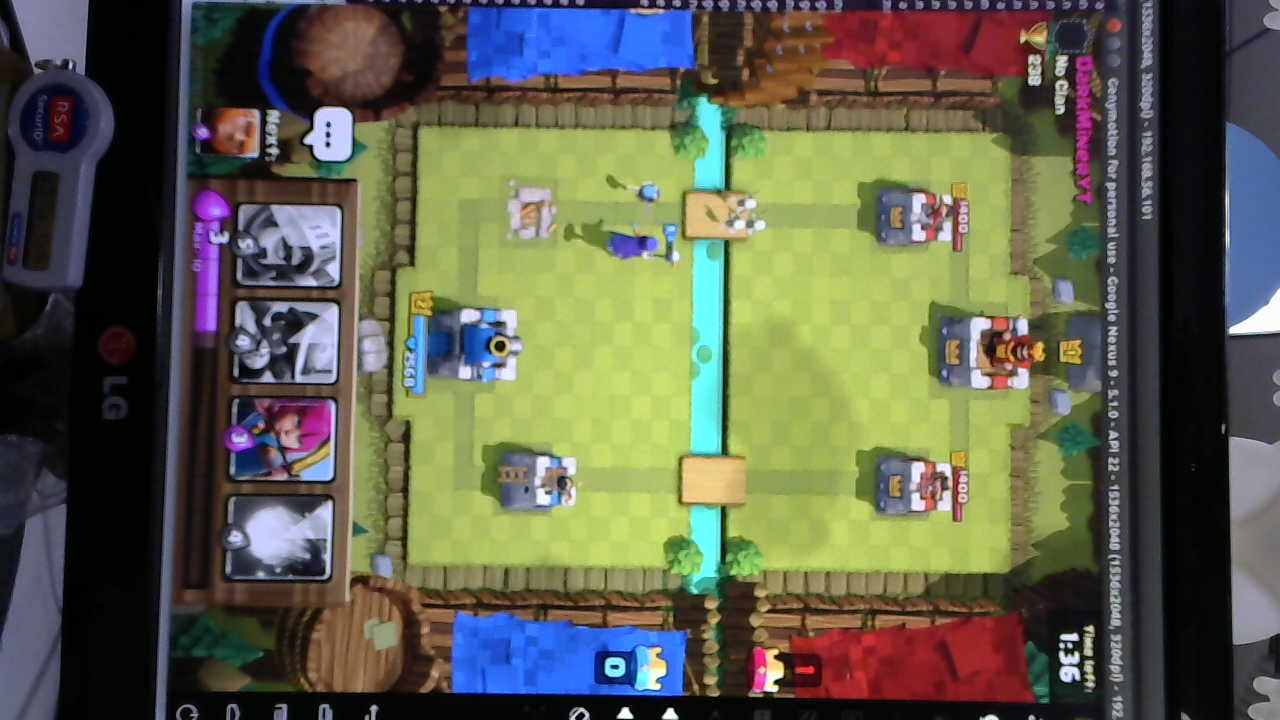arena: (505, 450, 578, 512)
bomb: (633, 176, 668, 205)
darena: (504, 184, 558, 247)
earena: (874, 188, 958, 250), (874, 453, 954, 517)
eking: (931, 310, 1046, 392)
king: (430, 307, 522, 386)
skeleton: (724, 191, 772, 240)
witch: (603, 225, 663, 263)
